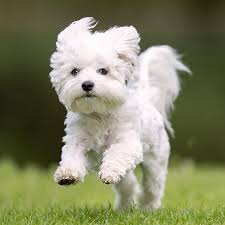dog: (42, 19, 170, 210)
